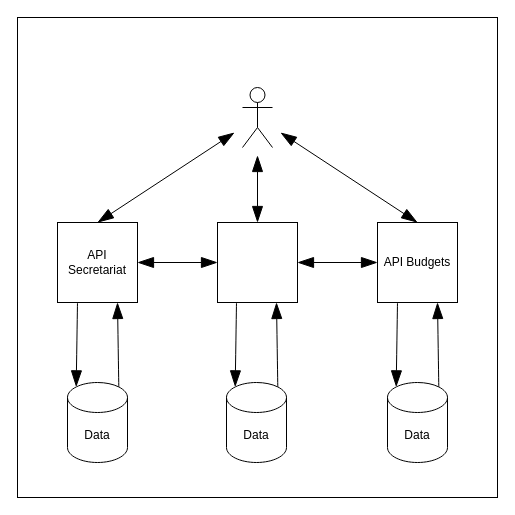
Some shapes in this 515 by 515 pixel diagram are drawn without their labels. Each missing label, with the centre of its shape:
"API Projects" goes at [257,262].
"Client" goes at [257,117].
